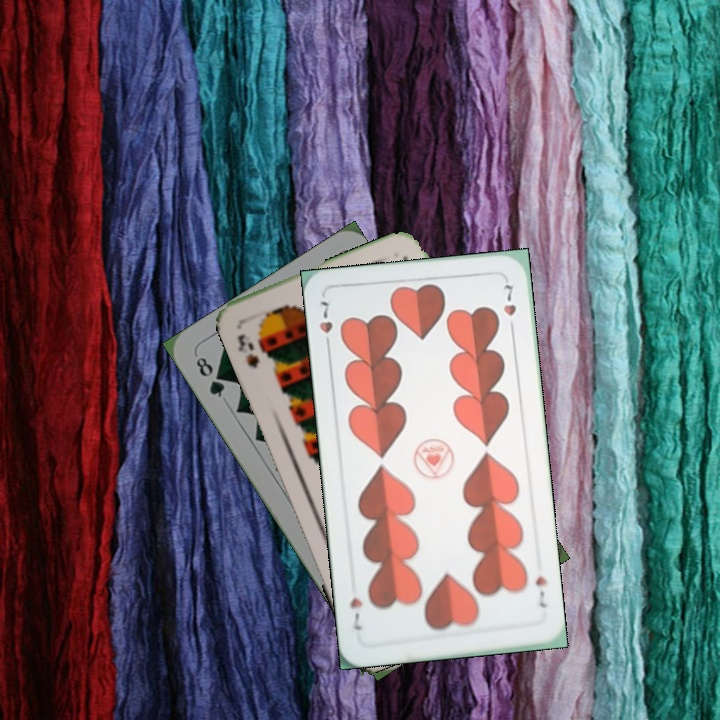G8: (191, 350, 228, 400)
H7: (315, 295, 335, 353), (531, 572, 549, 611)
S8: (233, 329, 262, 371)
